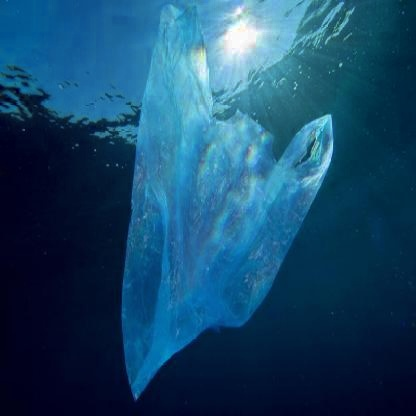pbag: (117, 3, 339, 416)
